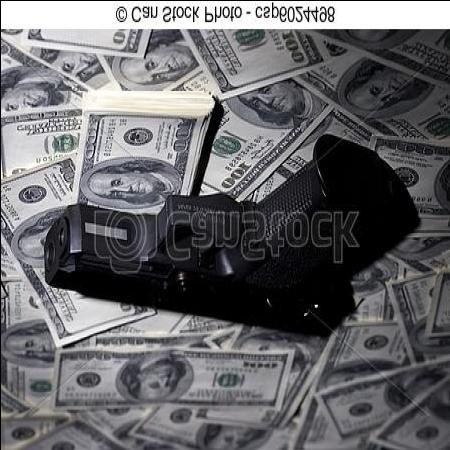Pistol: (41, 133, 413, 340)
